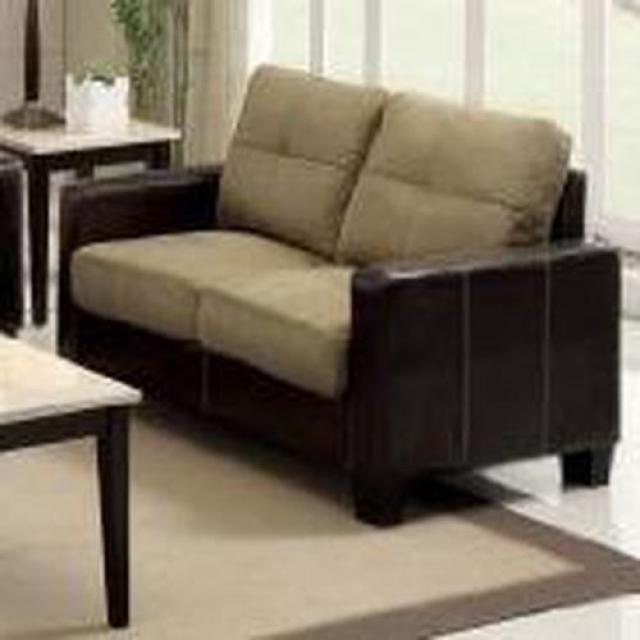sofa: (58, 64, 622, 530)
